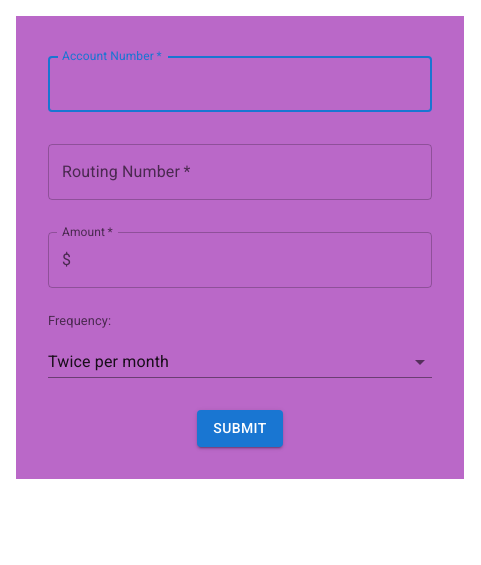
Test case: DirectDepositEnrollmentForm › shows error message when routing number is invalid
Type "2900" into the field labelled "Routing Number" at x=240, y=172, box left=48, top=144, right=432, bottom=200
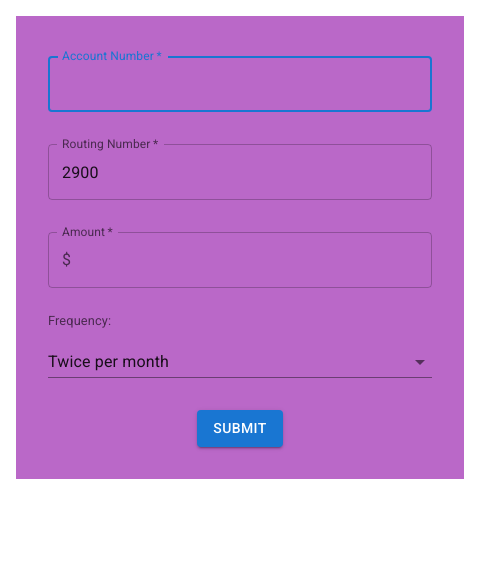
Click the button "Submit" at x=240, y=429, box left=197, top=410, right=283, bottom=447
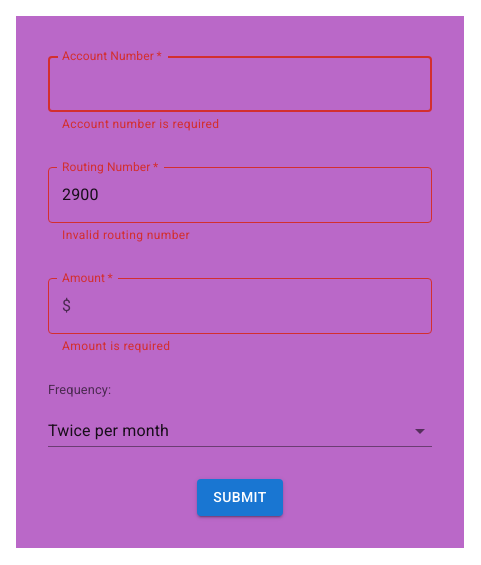
Result: the text "Invalid routing number" is shown at left=62, top=228, right=190, bottom=242
